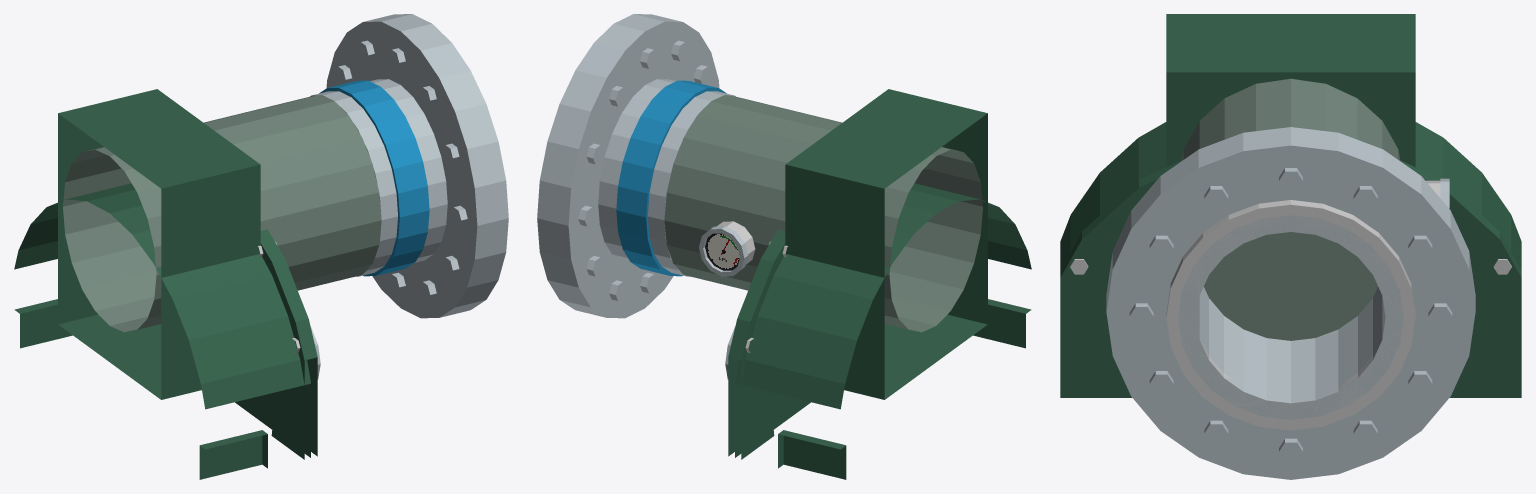
Rendered from cell_55.obj.
The picture shows the model from 3 angles, left to right: view 1: azimuth 30°, elevation 25°; view 2: azimuth 150°, elevation 25°; view 3: azimuth 270°, elevation 25°; orthographic projection. The views are drawn at different scales.
Bounding box in the file's own units: 1 × 0.9 × 1.
